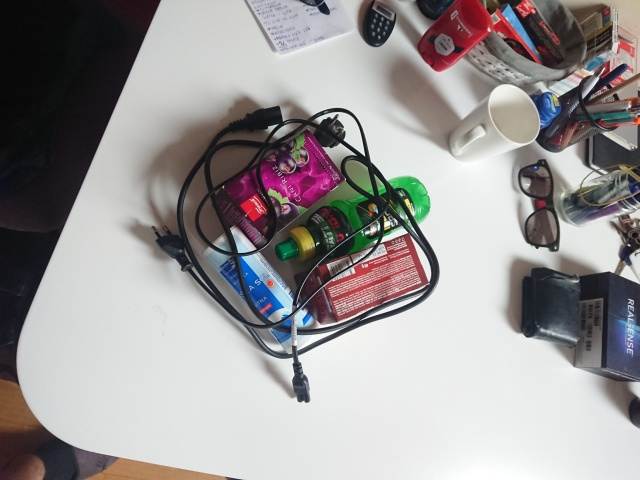Franck Apple Cinnamon Tea 60g: (292, 230, 431, 327)
Franck Black Currant Tea 60g: (211, 127, 348, 253)
Solana Pag Fine Sea Salt 250g: (200, 222, 324, 356)
Vindi Iso Sport Lemon-Grapefruit 500mL: (273, 174, 433, 265)
